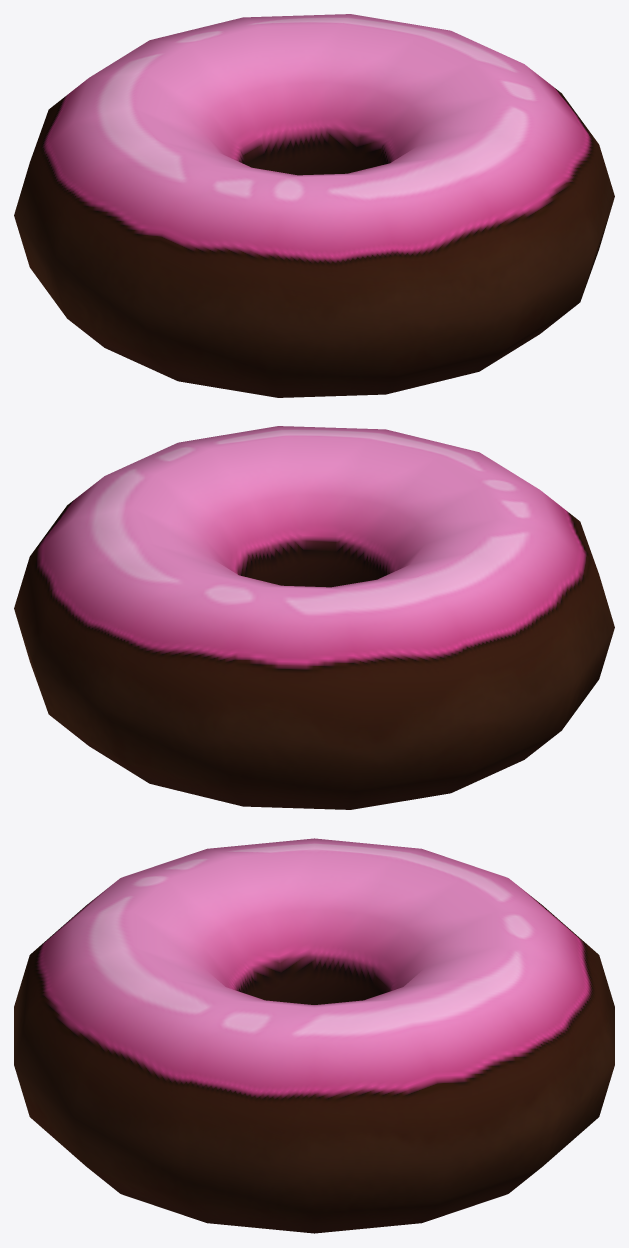
The model's file is 007-Donut_04.FBX.
3 renders of one model, top to bottom at view 1: azimuth 30°, elevation 25°; view 2: azimuth 150°, elevation 25°; view 3: azimuth 270°, elevation 25°, orthographic. The views are drawn at different scales.
Parts seen in each view (by area): view 1: 007-Donut_04; view 2: 007-Donut_04; view 3: 007-Donut_04.
Part boxes in pixels (box(x1,y1,x2,y2)): 007-Donut_04: box(14, 14, 614, 397); 007-Donut_04: box(14, 426, 614, 809); 007-Donut_04: box(14, 838, 614, 1233).
Bounding box in the file's own units: 15.8 × 6.06 × 15.4.
